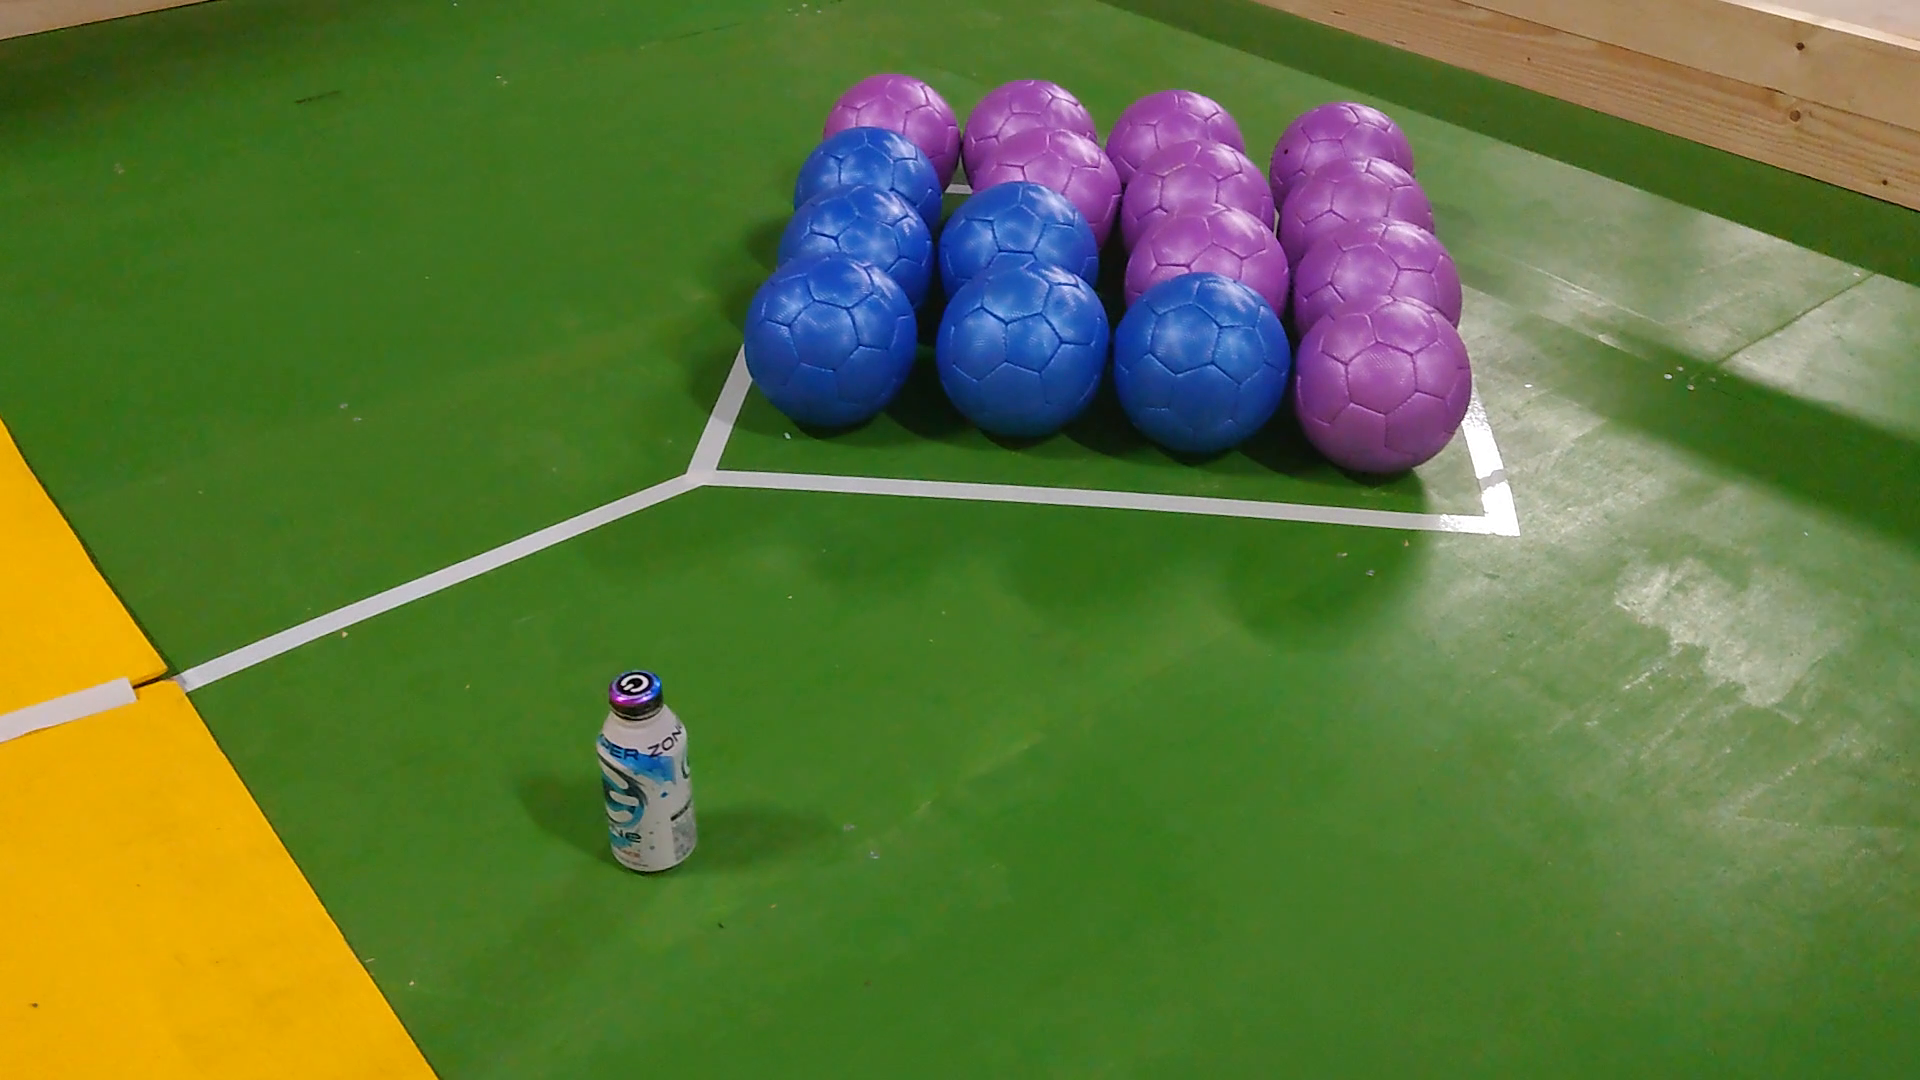blue: (1110, 272, 1294, 458), (741, 252, 920, 431), (934, 261, 1106, 444), (931, 179, 1104, 290), (777, 183, 927, 281), (790, 124, 940, 208)
purple: (1296, 294, 1476, 471), (1294, 215, 1462, 334), (1124, 199, 1287, 310), (1280, 157, 1440, 255), (1124, 140, 1276, 239), (969, 128, 1117, 219), (823, 71, 960, 164), (1104, 88, 1247, 170), (1270, 104, 1411, 186), (960, 78, 1095, 160)
